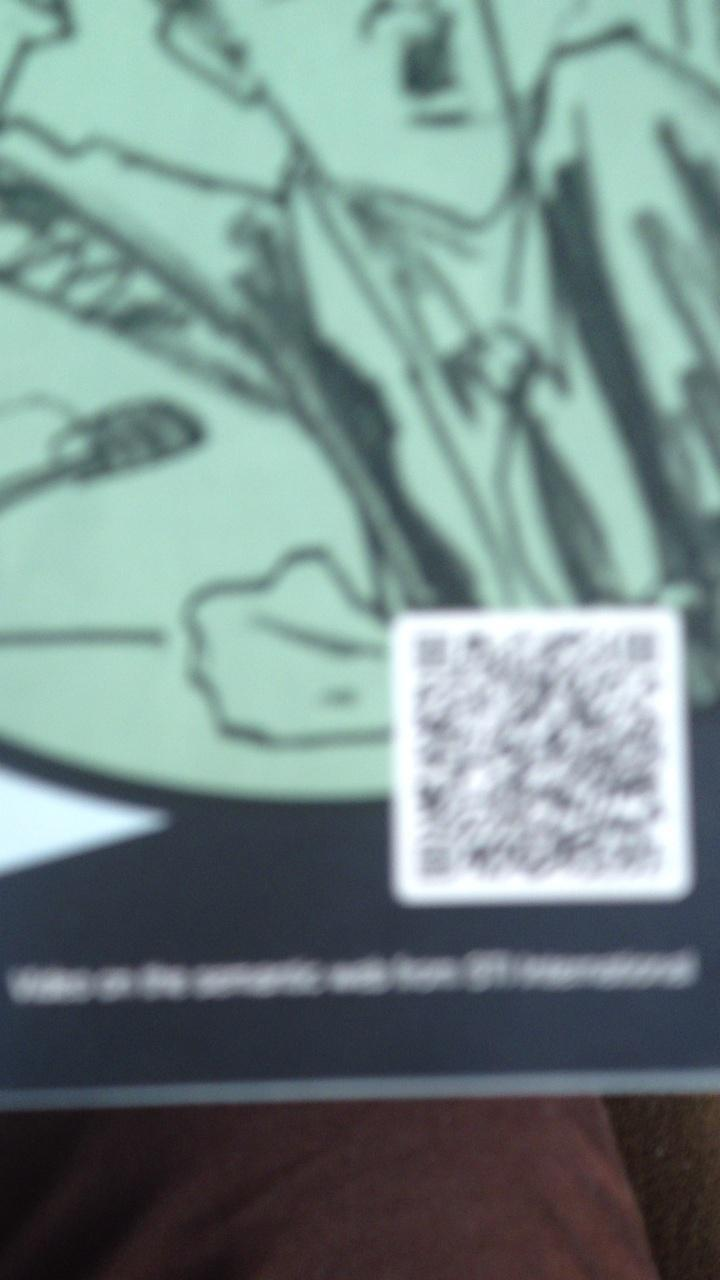Finder pattern: (409, 628, 456, 671), (619, 621, 662, 666), (413, 838, 455, 882)
